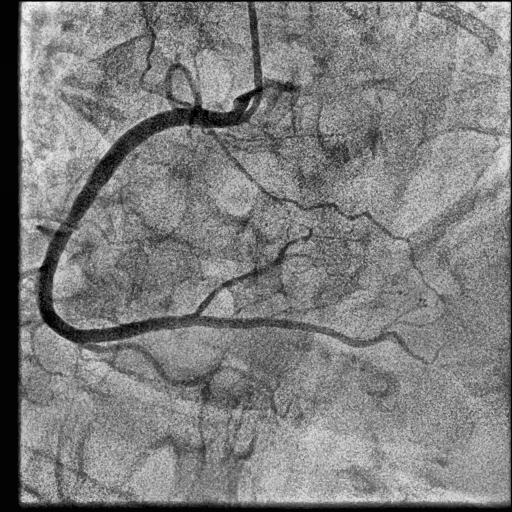pborca: (196, 228, 313, 314)
pda: (195, 316, 425, 363)
rca: (38, 107, 235, 343)
